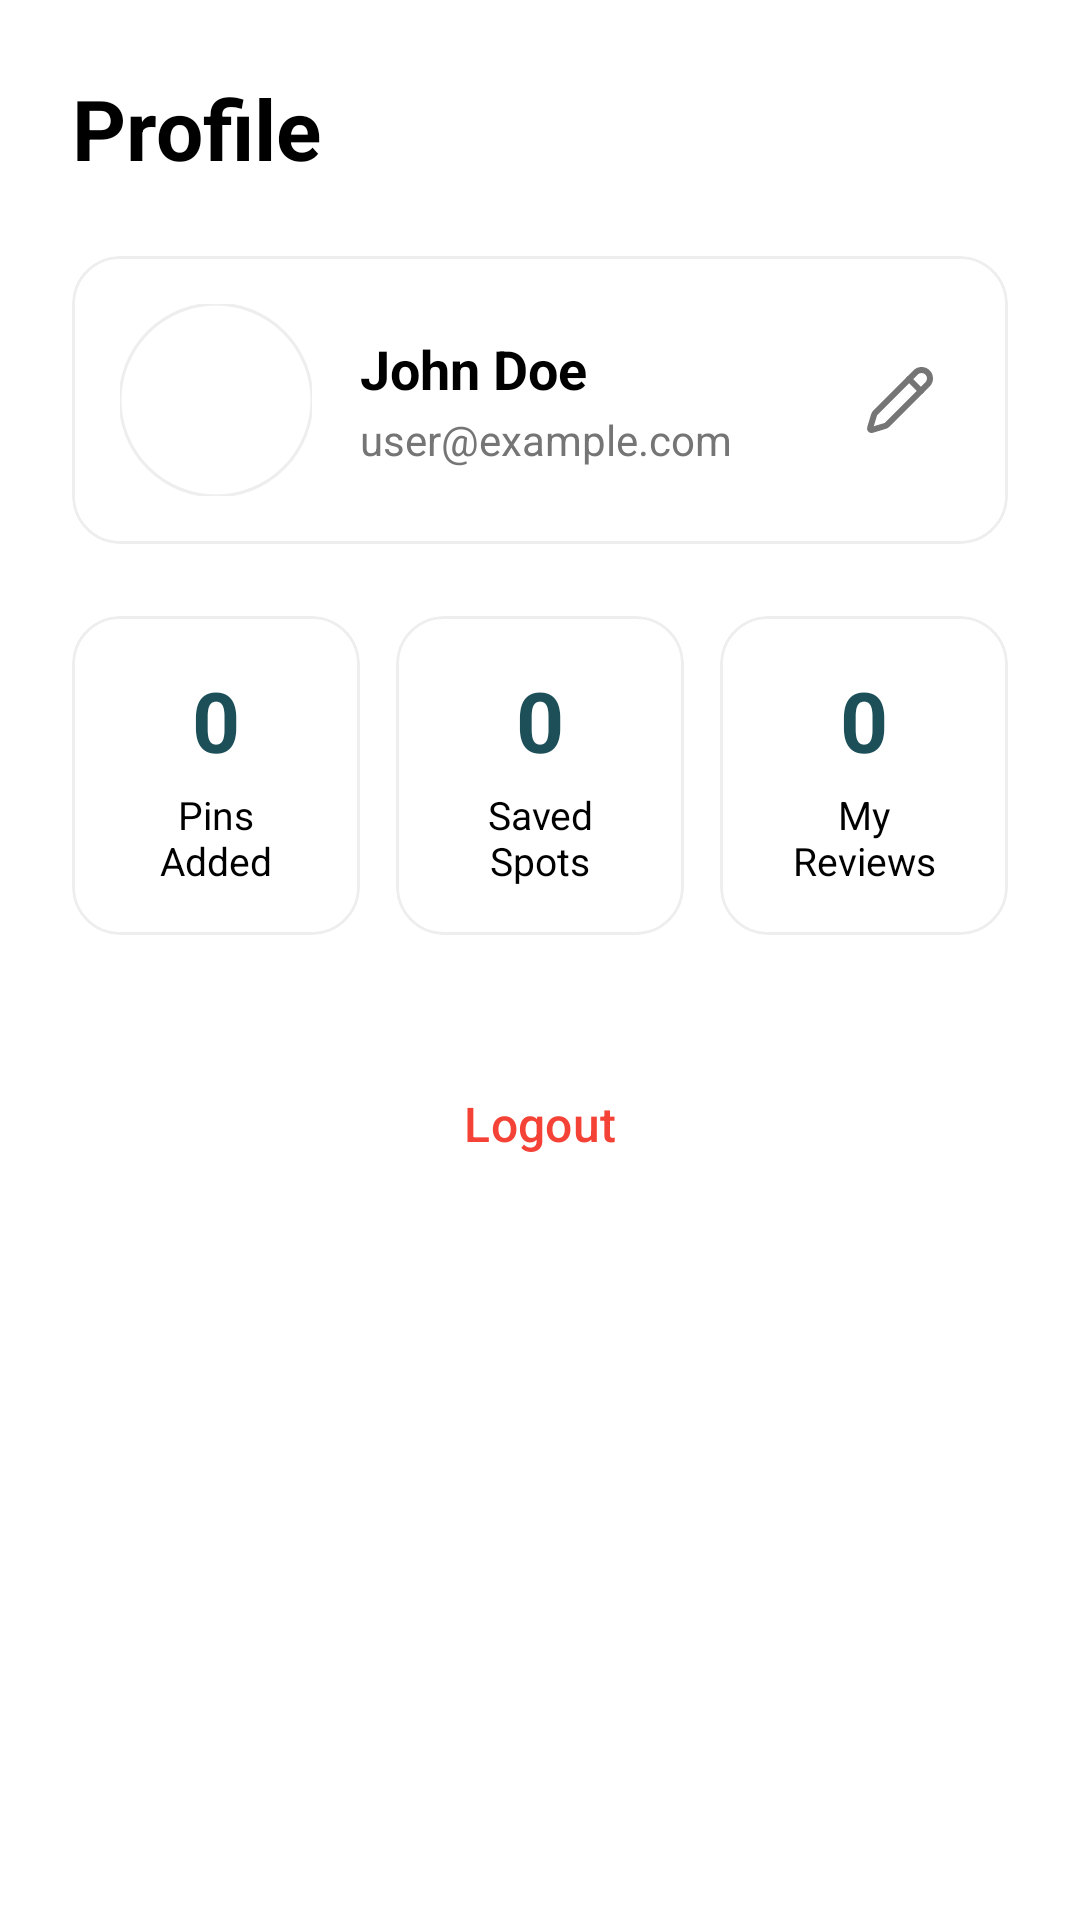

Screen size 1080 x 1920. Icon name, then its box in pixels as (x1, y1, x2, y2):
Edit Profile: (867, 367, 933, 433)
